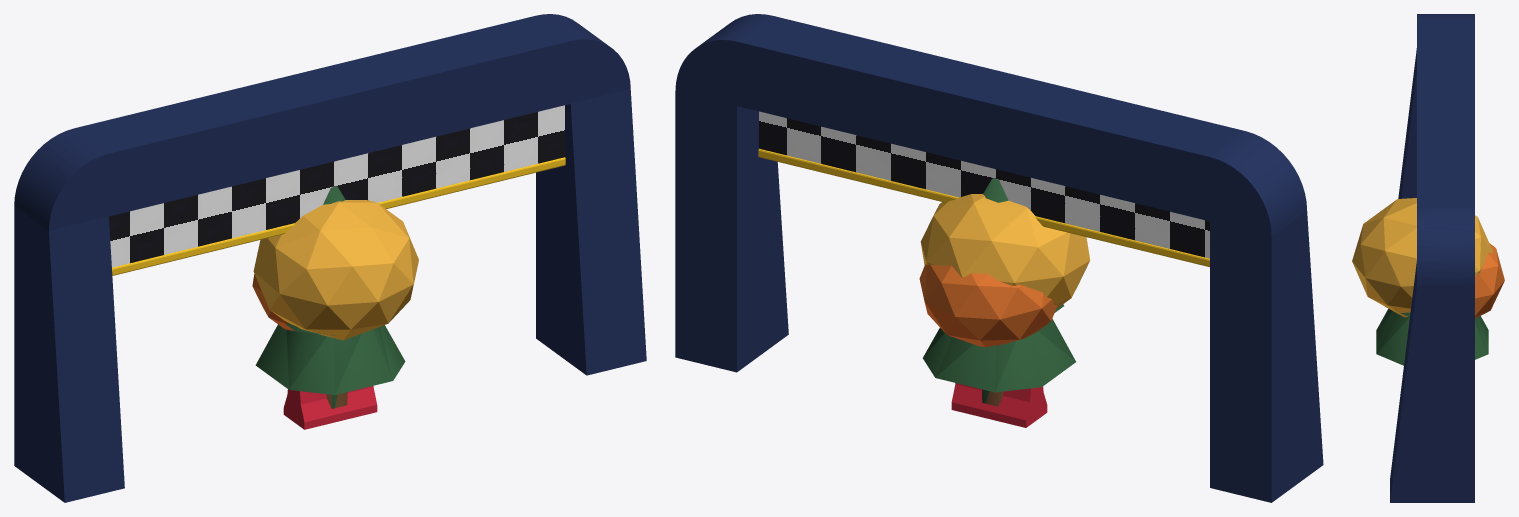
The model's file is kit_dressing.glb.
3 views of the same model, side by side, from view 1: azimuth 30°, elevation 25°; view 2: azimuth 150°, elevation 25°; view 3: azimuth 270°, elevation 25° (orthographic). The views are drawn at different scales.
Visible parts, largest first — view 1: prop_finish_arch, prop_tree_round_gold, prop_tree_pine, prop_barrier_red; view 2: prop_finish_arch, prop_tree_round_gold, prop_tree_round_maple, prop_tree_pine, prop_barrier_red; view 3: prop_finish_arch, prop_tree_round_gold, prop_tree_pine, prop_tree_round_maple.
Part boxes in pixels (x1,y1,x2,y2): prop_finish_arch: (14,14,646,502); prop_tree_round_gold: (253,200,418,340); prop_tree_pine: (255,186,405,408); prop_barrier_red: (283,386,377,429); prop_finish_arch: (675,14,1323,502); prop_tree_round_gold: (920,194,1090,308); prop_tree_round_maple: (919,264,1057,347); prop_tree_pine: (923,178,1075,406); prop_barrier_red: (951,383,1047,427); prop_finish_arch: (1390,14,1474,502); prop_tree_round_gold: (1352,198,1493,317); prop_tree_pine: (1376,306,1488,365); prop_tree_round_maple: (1475,243,1504,318).
Bounding box in the file's own units: 16 × 8.49 × 4.35.
Materials: 1 (1 with a texture image).
